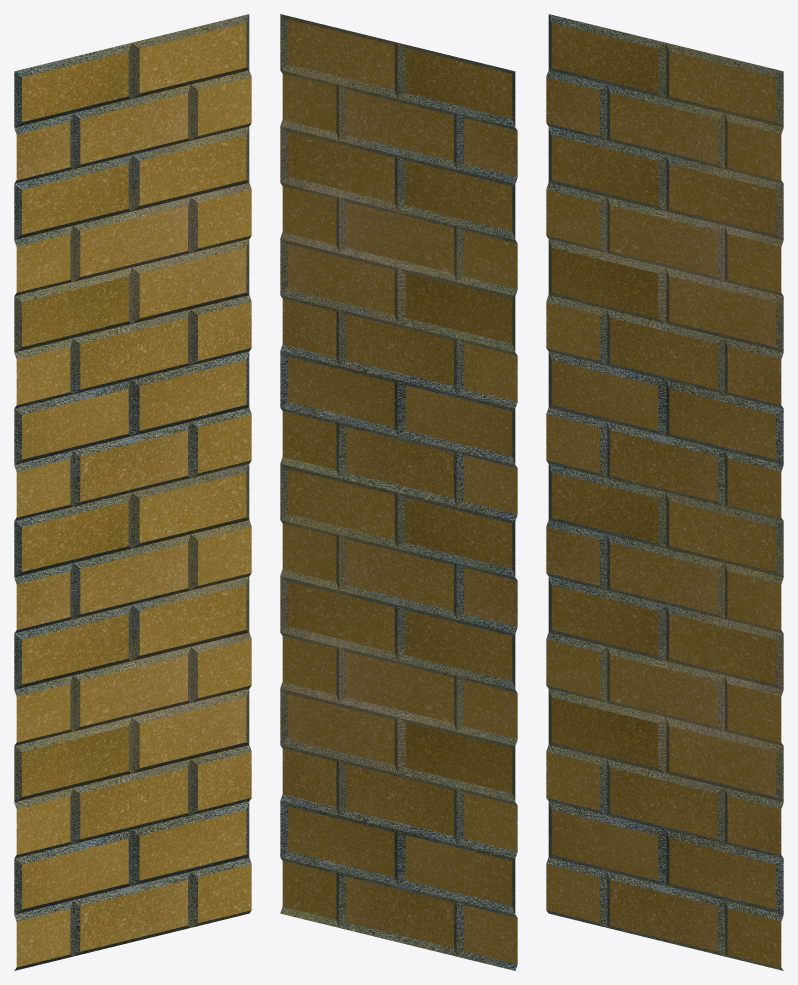
The model's file is Parede1Alto.fbx.
The picture shows the model from 3 angles, left to right: view 1: azimuth 30°, elevation 25°; view 2: azimuth 150°, elevation 25°; view 3: azimuth 330°, elevation 25°; orthographic projection.
Visible parts, largest first — view 1: Plano.001; view 2: Plano.001; view 3: Plano.001.
Boxes of the visible parts, x1,y1,x2,y2 form: Plano.001: (14,14,251,970); Plano.001: (280,14,517,970); Plano.001: (546,14,783,970).
Bounding box in the file's own units: 2925 × 10685 × 50.34.
